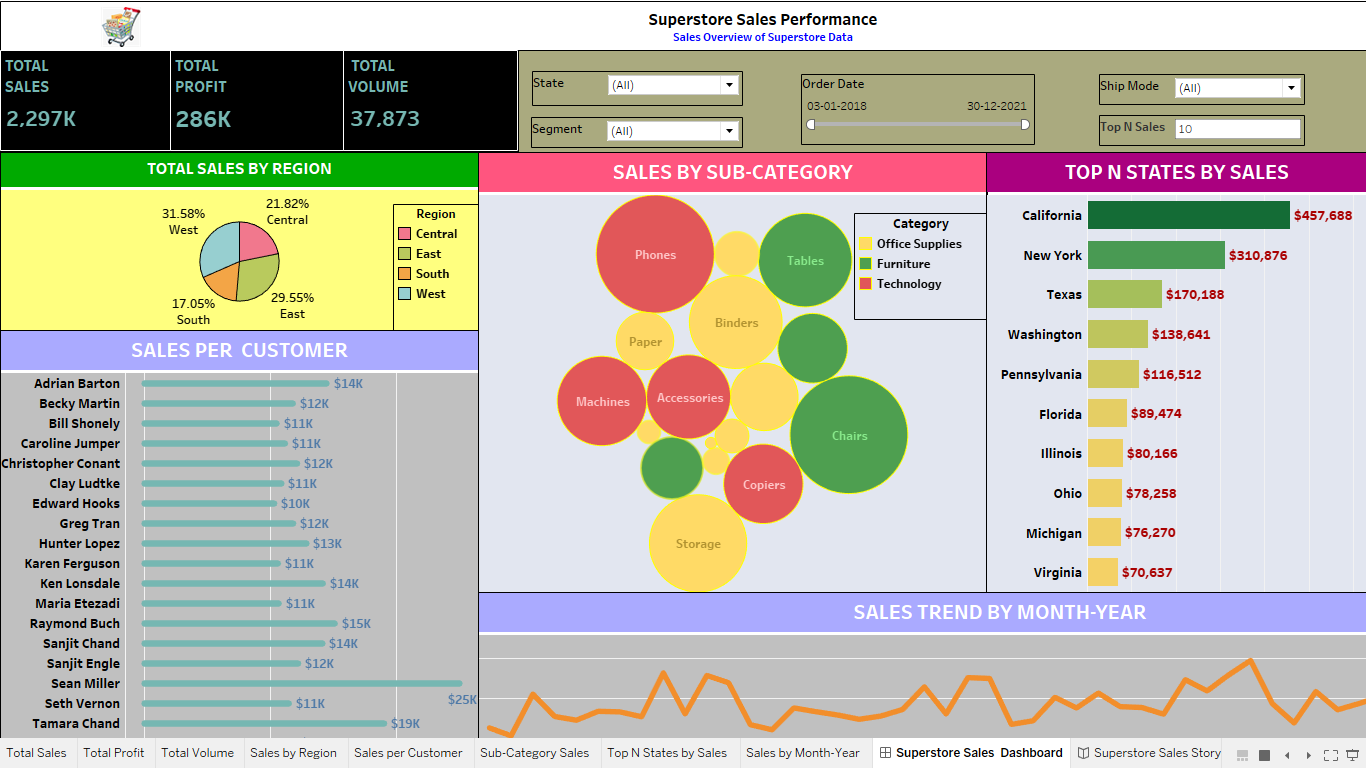

What the dashboard file says about the page in this screenshot:
{"tool":"tableau","page":{"name":"Superstore Sales  Dashboard","canvas":[1000,1000],"units":"permille","ordinal":0},"visuals":[{"type":"image","param":"Image/trolley.png","box":[71.9,10.1,34.6,54.1]},{"type":"worksheet","title":"Total Sales","mark":"Automatic","box":[0,67.6,125.5,136.8]},{"type":"worksheet","title":"Total Profit","mark":"Automatic","box":[124.7,67.6,127.3,136.8]},{"type":"worksheet","title":"Total Volume","mark":"Automatic","box":[251.1,67.6,128.1,136.8]},{"type":"filter","title":"Total Sales","param":"[federated.00d8oen0mnngrk13f2xs10cawzsq].[none:State:nk]","box":[389.6,96.3,154.1,47.3]},{"type":"filter","title":"Sales by Month-Year","param":"[federated.00d8oen0mnngrk13f2xs10cawzsq].[none:Order Date:qk]","box":[586.1,99.7,171.4,96.3]},{"type":"filter","title":"Total Sales","param":"[federated.00d8oen0mnngrk13f2xs10cawzsq].[none:Ship Mode:nk]","box":[804.3,99.7,150.7,42.2]},{"type":"parameter","param":"[Parameters].[Parameter 1]","box":[804.3,155.4,150.7,42.2]},{"type":"filter","title":"Total Sales","param":"[federated.00d8oen0mnngrk13f2xs10cawzsq].[none:Segment:nk]","box":[388.8,158.8,155.2,42.2]},{"type":"worksheet","title":"Sales by Region","mark":"Pie","box":[0,206.1,350.7,246.6]},{"type":"worksheet","title":"Sub-Category Sales","mark":"Circle","box":[349.8,206.1,373.2,598]},{"type":"worksheet","title":"Top N States by Sales","mark":"Bar","rows":["State"],"cols":["Sales"],"box":[722.1,206.1,279.7,598]},{"type":"legend","title":"Sales by Region","param":"[federated.00d8oen0mnngrk13f2xs10cawzsq].[none:Region:nk]","box":[288.1,277,62.7,174]},{"type":"legend","title":"Sub-Category Sales","param":"[federated.00d8oen0mnngrk13f2xs10cawzsq].[none:Category:nk]","box":[625.1,288.9,97.8,145.3]}]}

Visuals, with their boxes on the dashboard's canvas, which has no fixed pixel size, in thousandths of its width and height (x1, y1, x2, y2). These are canvas units, not pixel positions in the 1366x768 screenshot, which may show the page scaled, cropped or inside an application window:
image: x1=72, y1=10, x2=106, y2=64
"Total Sales" worksheet: x1=0, y1=68, x2=126, y2=204
"Total Profit" worksheet: x1=125, y1=68, x2=252, y2=204
"Total Volume" worksheet: x1=251, y1=68, x2=379, y2=204
"Total Sales" filter: x1=390, y1=96, x2=544, y2=144
"Sales by Month-Year" filter: x1=586, y1=100, x2=758, y2=196
"Total Sales" filter: x1=804, y1=100, x2=955, y2=142
parameter: x1=804, y1=155, x2=955, y2=198
"Total Sales" filter: x1=389, y1=159, x2=544, y2=201
"Sales by Region" worksheet (Pie marks): x1=0, y1=206, x2=351, y2=453
"Sub-Category Sales" worksheet (Circle marks): x1=350, y1=206, x2=723, y2=804
"Top N States by Sales" worksheet (Bar marks): x1=722, y1=206, x2=1002, y2=804
"Sales by Region" legend: x1=288, y1=277, x2=351, y2=451
"Sub-Category Sales" legend: x1=625, y1=289, x2=723, y2=434
